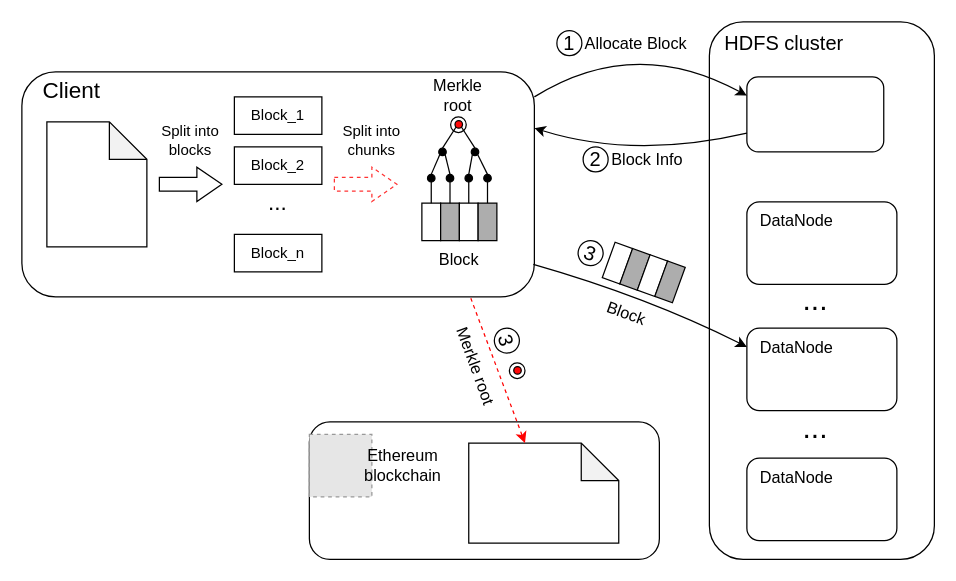
The diagram is 956 pixels wide and 581 high, and some of its shapes have lost their labels. Grey dashed boxes stand in for pictures. Each missing label, with the centre of its shape:
File: pixel 96 184
Filesystem smart contract: pixel 543 492
NameNode: pixel 815 114
